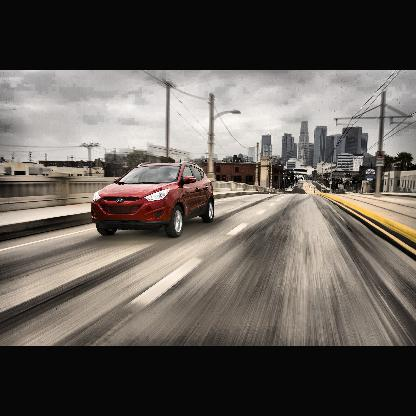Hyundai Tucson SUV 2012: (92, 161, 215, 238)
